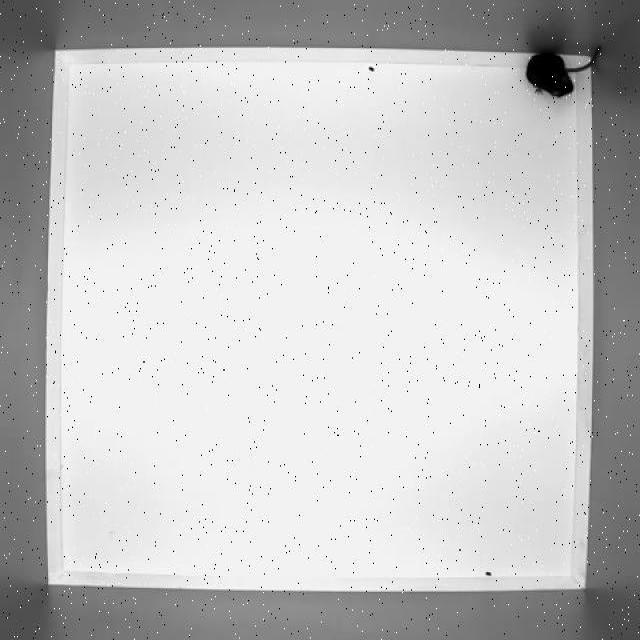rat: (524, 41, 608, 111)
